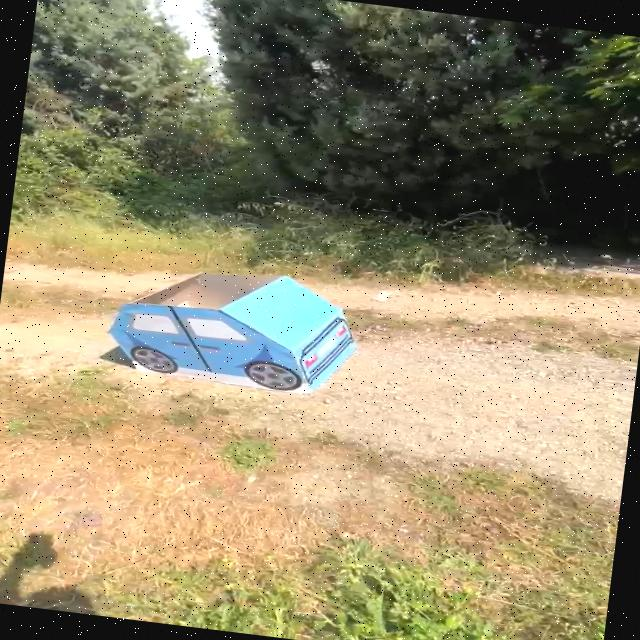blue_car: (85, 236, 393, 420)
